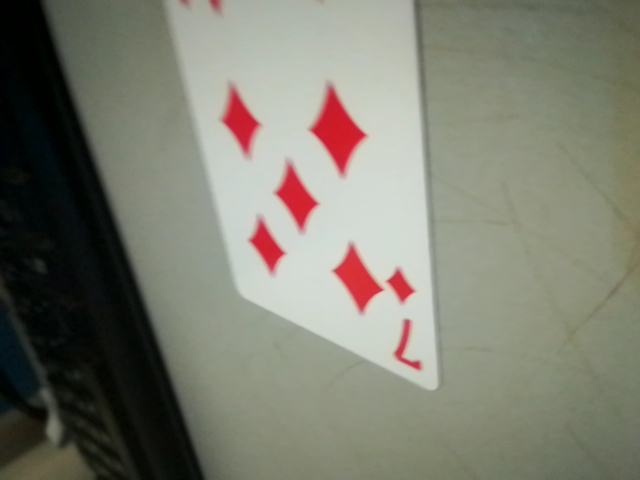fk 7: (375, 260, 437, 384)
